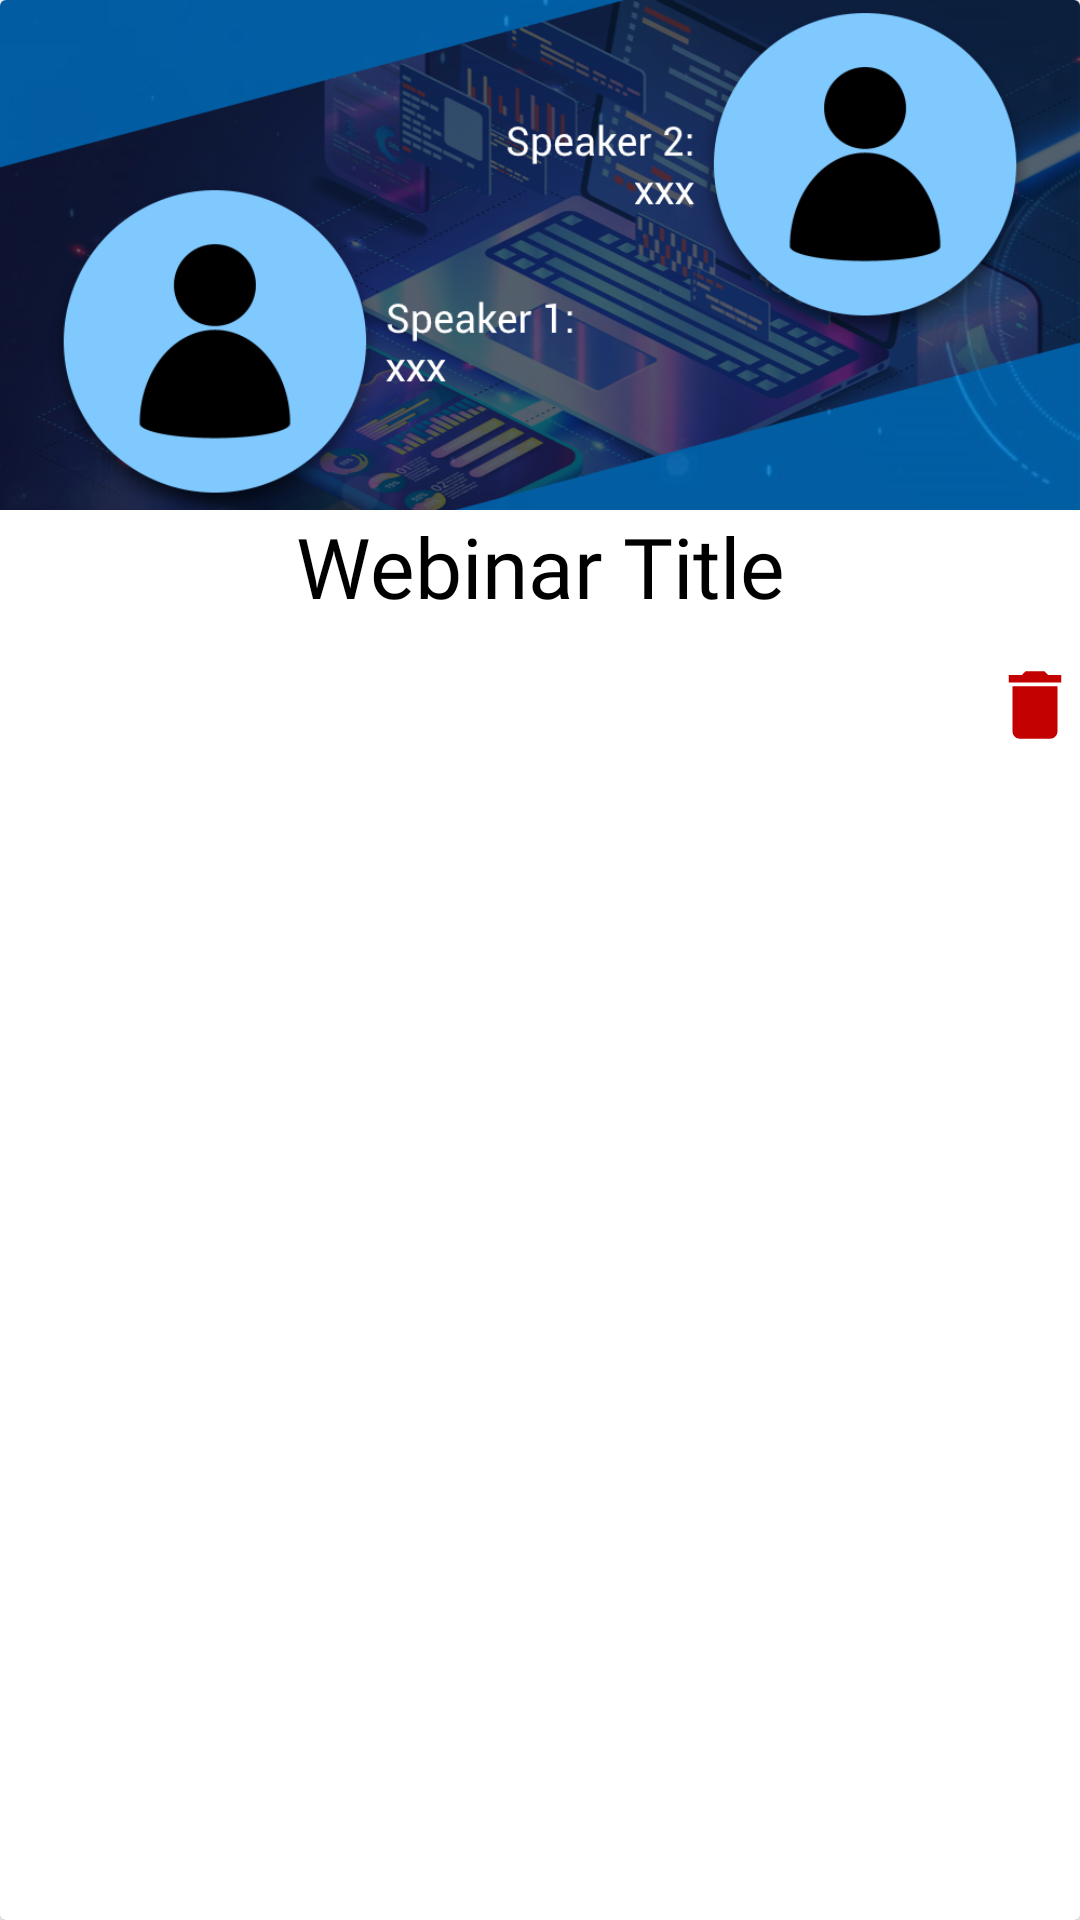

Where icons sit on this 1080x1920 app screen, as (x1, y1, x2, y2):
delete: (1008, 671, 1062, 739)
